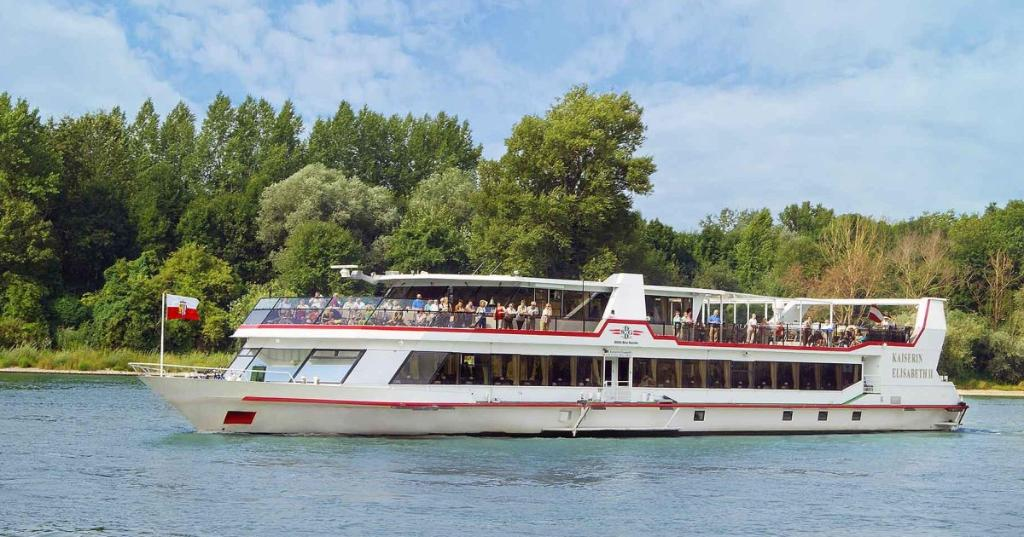PassengerShip: (108, 252, 978, 447)
